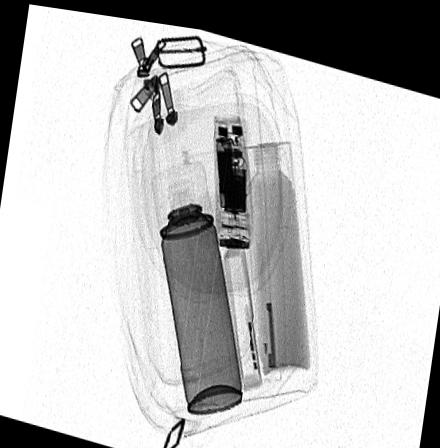Sprayer: (152, 153, 242, 406)
